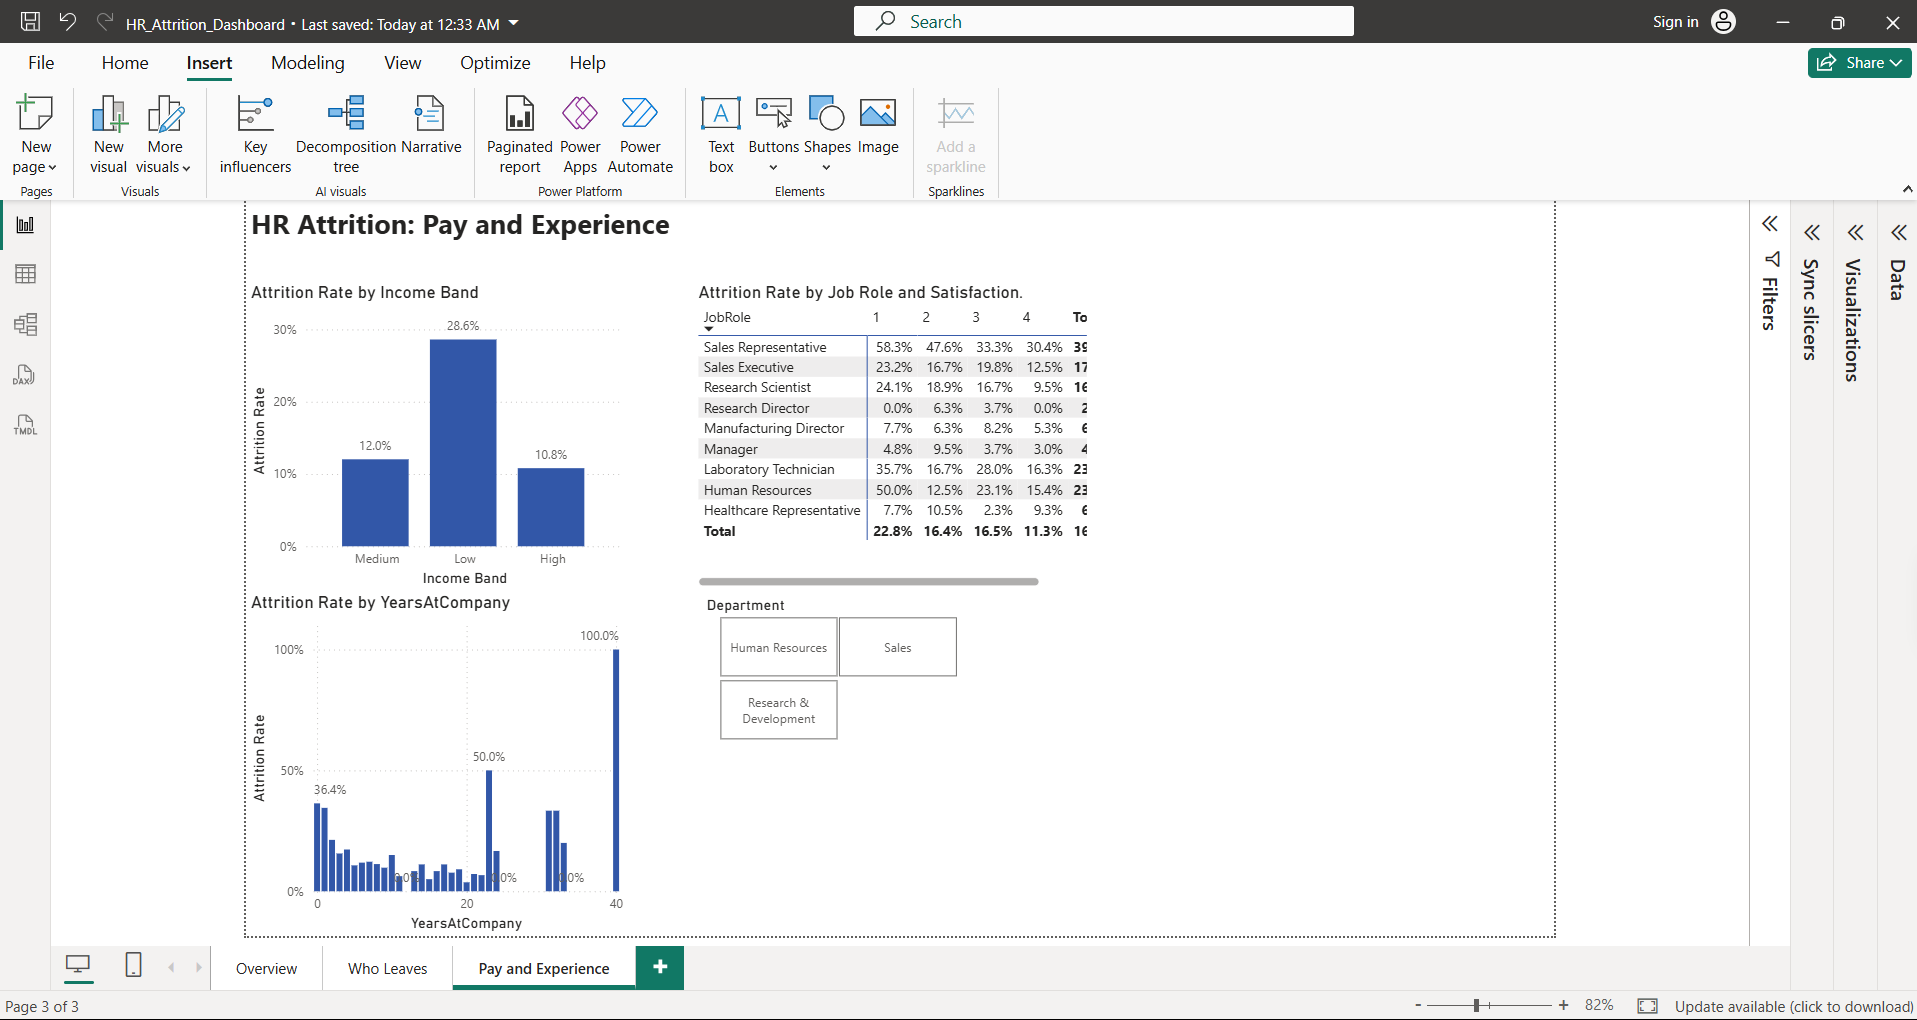

The page's visual inventory and layout, read from the dashboard file:
{"tool":"powerbi","page":{"name":"Pay and Experience","canvas":[1280,720],"ordinal":2},"visuals":[{"type":"clusteredColumnChart","fields":{"Category":["HR_Data.Income Band"],"Y":["HR_Data.Attrition Rate"]},"box":[0,79.5,374.2,303.3],"z":0},{"type":"clusteredColumnChart","fields":{"Y":["HR_Data.Attrition Rate"],"Category":["HR_Data.YearsAtCompany"]},"box":[0,382.7,374.2,337.5],"z":1},{"type":"pivotTable","title":"Attrition Rate by Job Role and Satisfaction.","fields":{"Rows":["HR_Data.JobRole"],"Columns":["HR_Data.JobSatisfaction"],"Values":["HR_Data.Attrition Rate"]},"box":[437.8,79.5,390.1,303.3],"z":2},{"type":"slicer","fields":{"Values":["HR_Data.Department"]},"box":[437.8,382.7,281.3,151.6],"z":3},{"type":"textbox","box":[0,0,437.4,51.1],"z":4}]}

Visuals, with their boxes on the page's 1280x720 design canvas (x1, y1, x2, y2). These are canvas units, not pixel positions in the 1917x1020 screenshot, which may show the page scaled, cropped or inside an application window:
clusteredColumnChart - HR_Data.Income Band x HR_Data.Attrition Rate: BBox(0, 80, 374, 383)
clusteredColumnChart - HR_Data.Attrition Rate x HR_Data.YearsAtCompany: BBox(0, 383, 374, 720)
"Attrition Rate by Job Role and Satisfaction." pivotTable: BBox(438, 80, 828, 383)
slicer - HR_Data.Department: BBox(438, 383, 719, 534)
textbox: BBox(0, 0, 437, 51)
